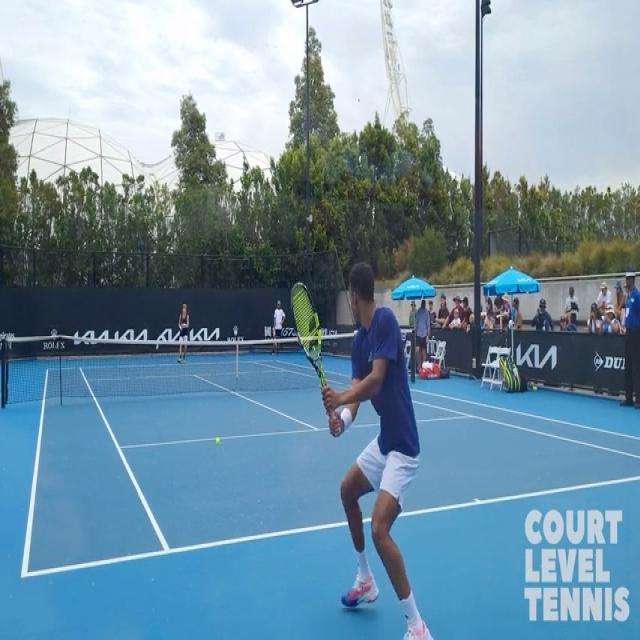backhand-ready: (284, 248, 451, 640)
